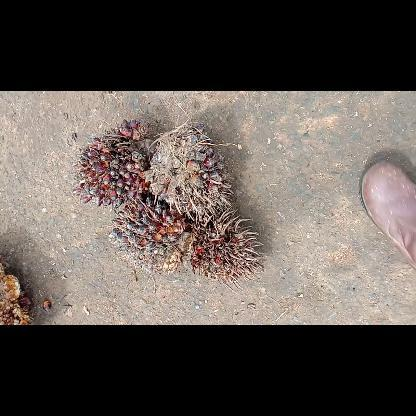TBS abnormal: (142, 122, 232, 218), (75, 119, 154, 206), (111, 196, 191, 274), (189, 209, 263, 291)
